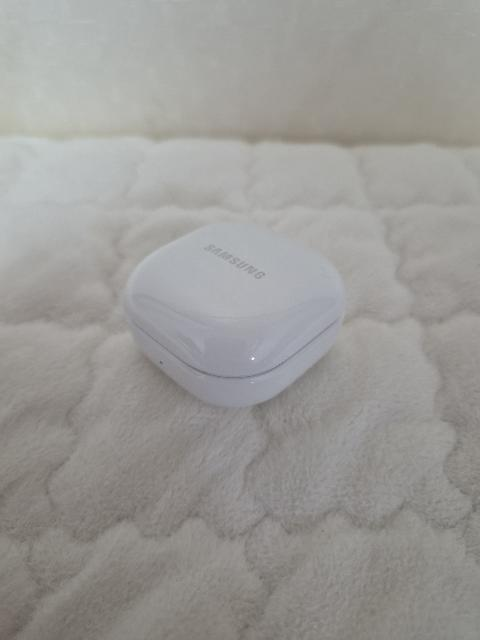earphone_case: (122, 222, 346, 408)
